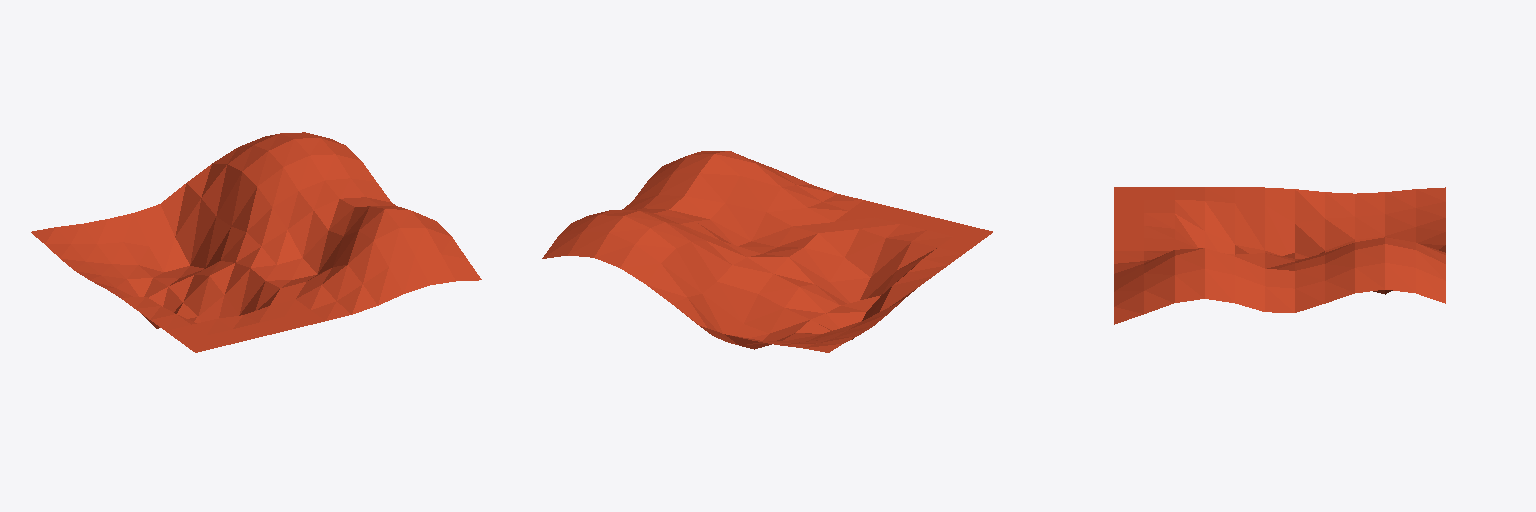
File: dirty_plane.obj
3 renders of one model, left to right at view 1: azimuth 30°, elevation 25°; view 2: azimuth 150°, elevation 25°; view 3: azimuth 270°, elevation 25°, orthographic.
Visible parts, largest first — view 1: Plane; view 2: Plane; view 3: Plane.
Boxes of the visible parts, x1,y1,x2,y2 form: Plane: [31, 132, 481, 352]; Plane: [542, 151, 992, 352]; Plane: [1114, 187, 1445, 324].
Size of the model in its own units: 10 by 3.76 by 10.